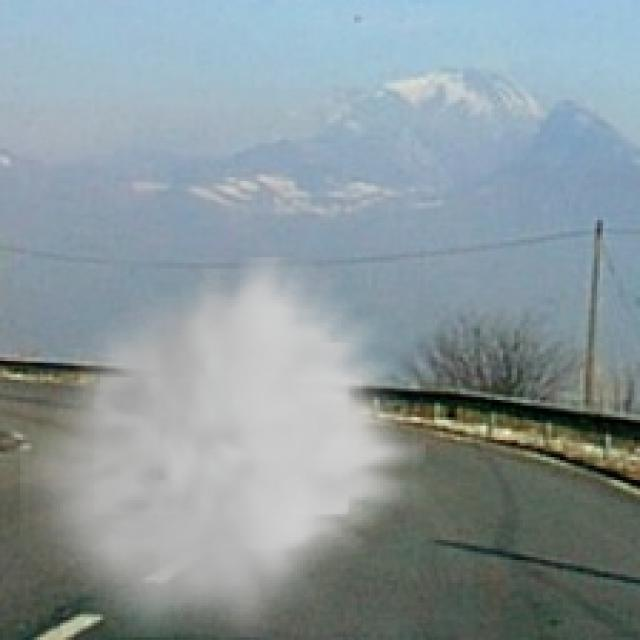Smoke: (20, 257, 426, 637)
